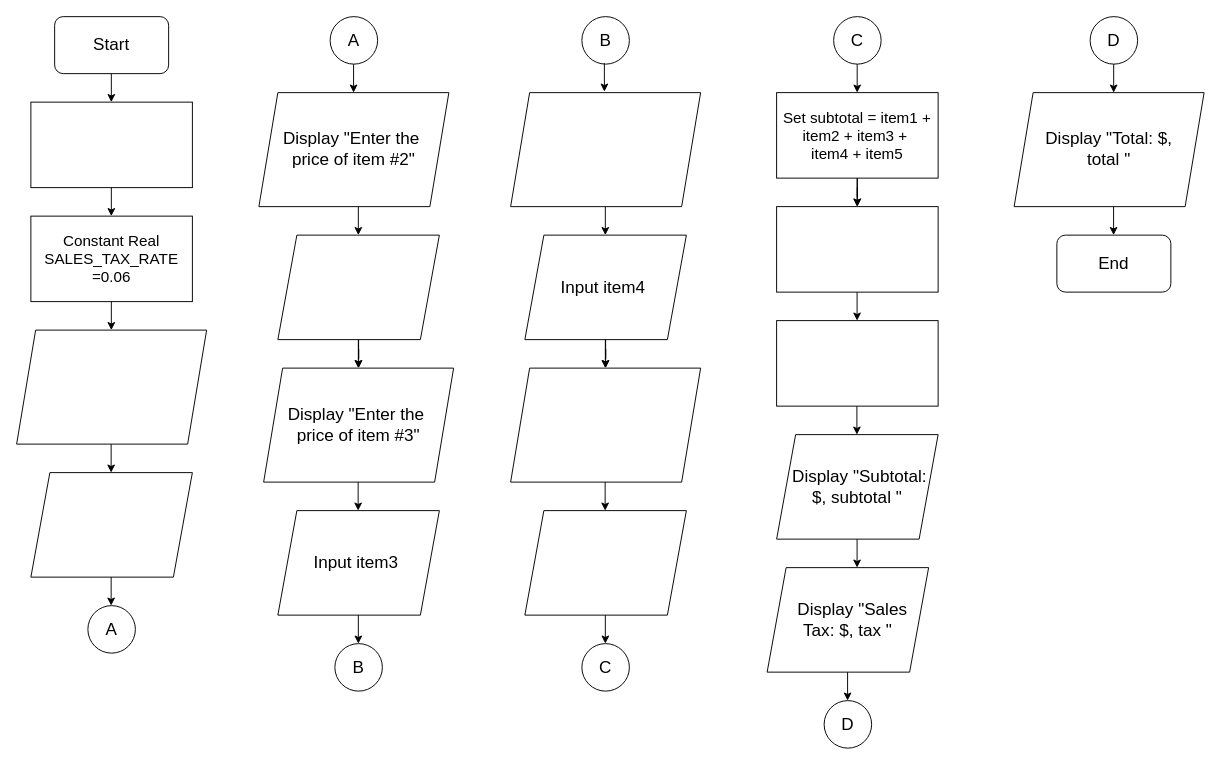
Image size: 1221x765. Some labels were removed from this diagram. Here are the shapes that lost their labels. From the top down, the centre of each, then its label:
[111,144]: Declare Real item1, item2, item3, item4, item5, subtotal, tax, total
[605,149]: Display "Enter the price of item #4 "
[857,249]: Set tax = subtotal * SALES_TAX_RATE
[358,287]: Input item2
[857,363]: Set total = subtotal + tax
[111,386]: Display "Enter the price of item #1 "
[605,424]: Display "Enter the price of item #5 "
[111,524]: Input item1
[605,562]: Input item5
